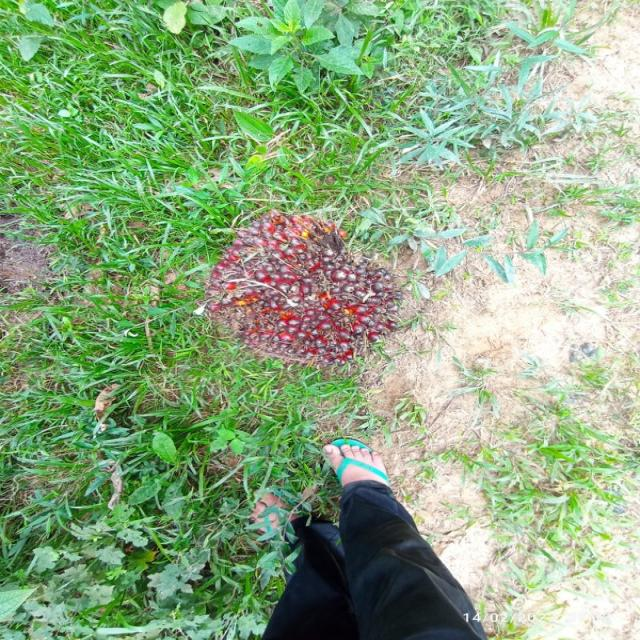fraksi 1: (206, 208, 400, 362)
